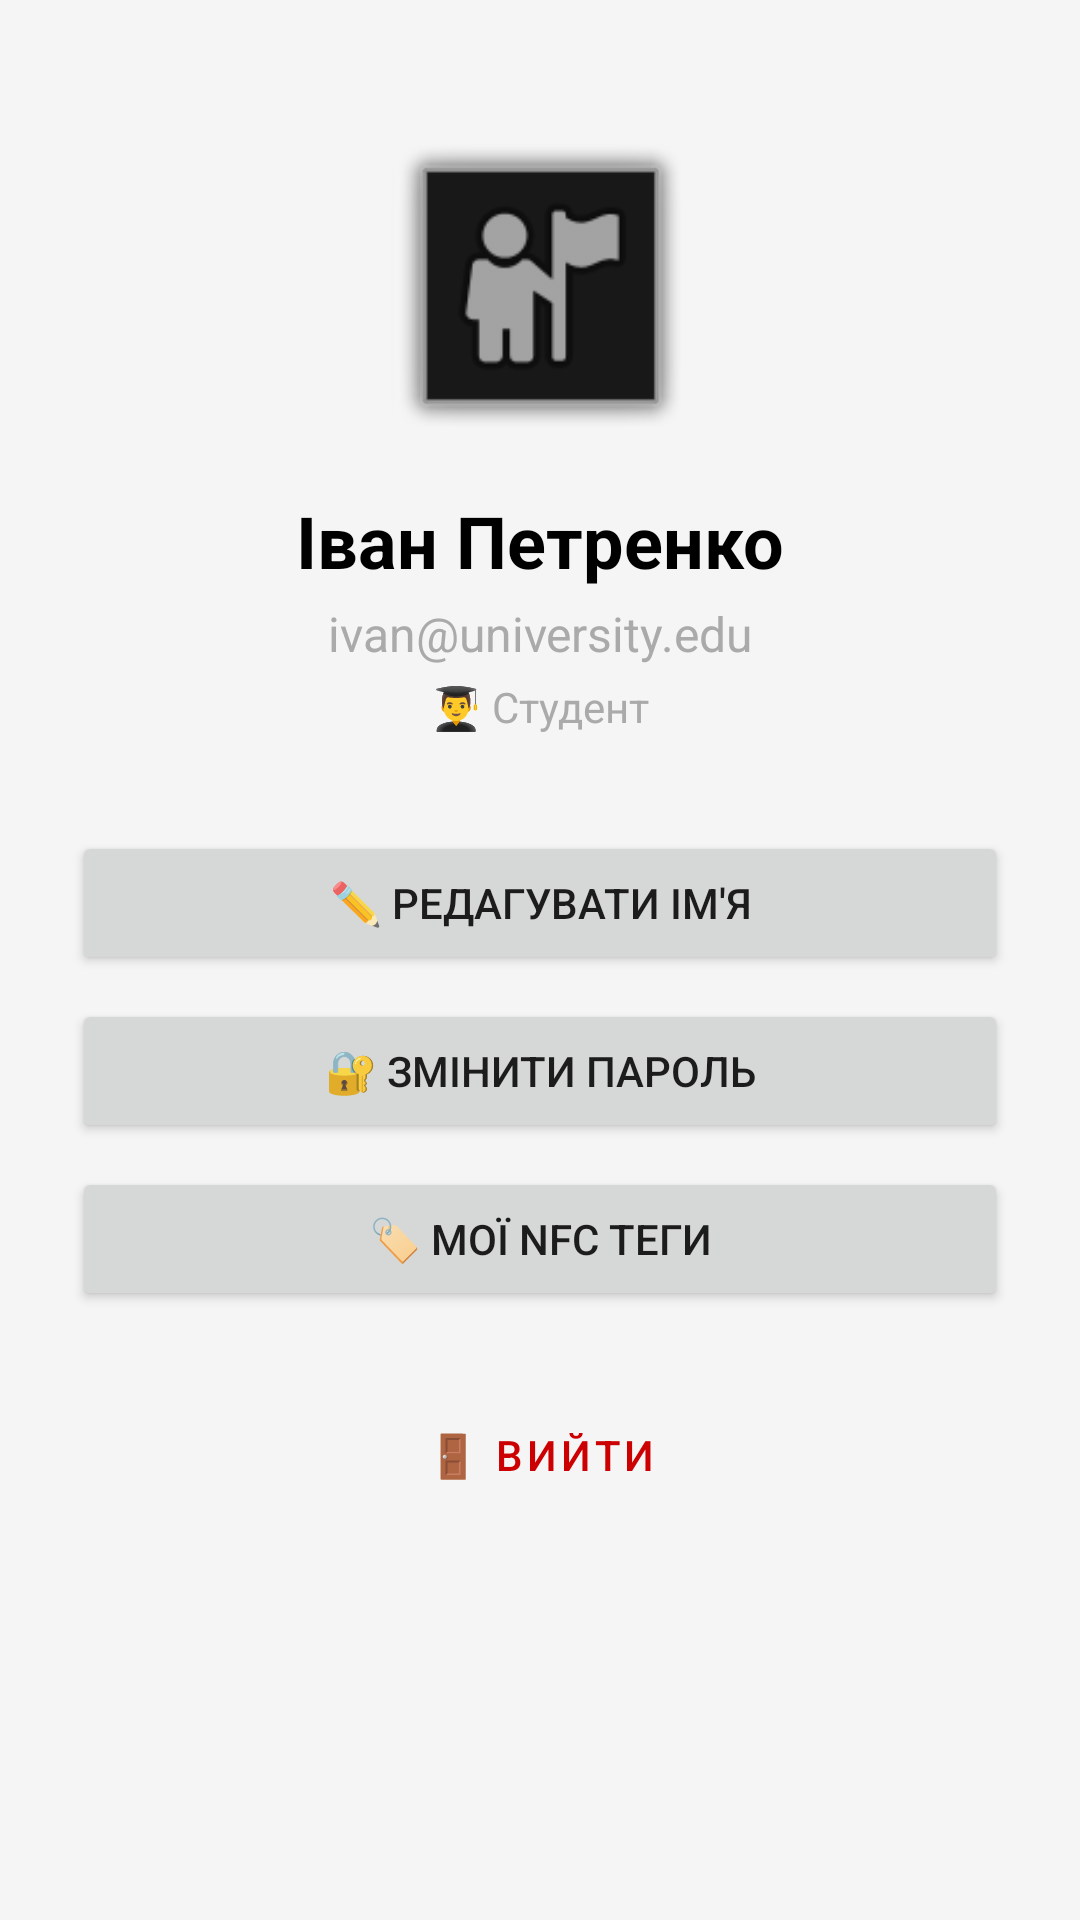

Where to tap for icons on this 1080px x 1920px app screen, as (x=x, y=y):
myplaces: (x=540, y=286)
